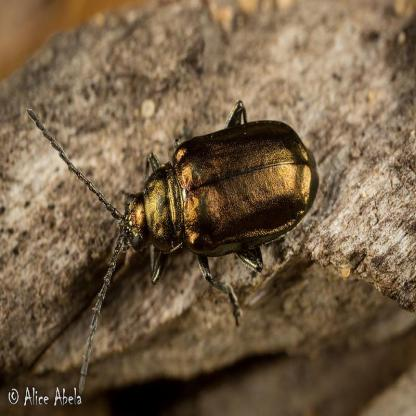beetle: (33, 101, 323, 274)
